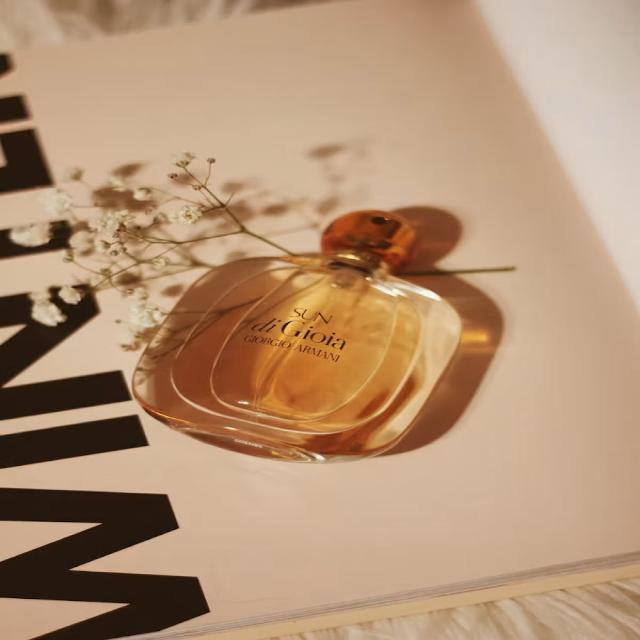Bottle: (134, 211, 460, 461)
